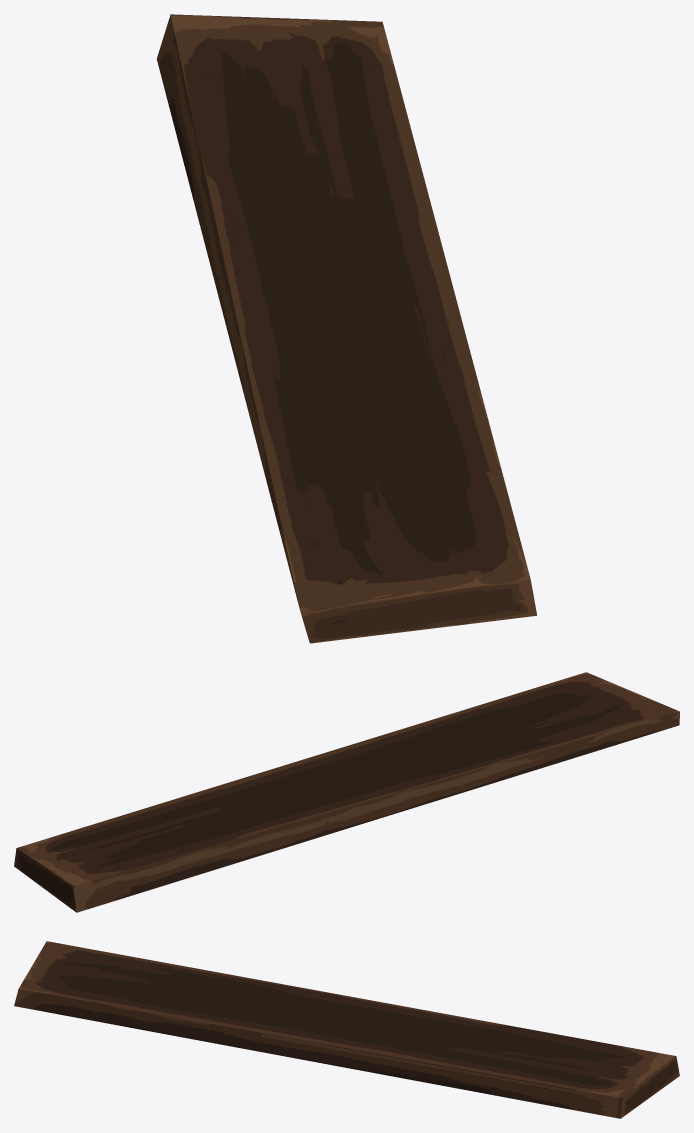
File: SM_PROP_planks_dungeon_01.fbx
3 views of the same model, one above another, from view 1: azimuth 30°, elevation 25°; view 2: azimuth 150°, elevation 25°; view 3: azimuth 270°, elevation 25° (orthographic). The views are drawn at different scales.
Parts seen in each view (by area): view 1: SM_PROP_planks_dungeon_01; view 2: SM_PROP_planks_dungeon_01; view 3: SM_PROP_planks_dungeon_01.
Boxes of the visible parts, <box> form: SM_PROP_planks_dungeon_01: <box>157,14,537,643</box>; SM_PROP_planks_dungeon_01: <box>14,672,679,912</box>; SM_PROP_planks_dungeon_01: <box>14,941,679,1118</box>.
Bounding box in the file's own units: 101 × 6.48 × 175.
